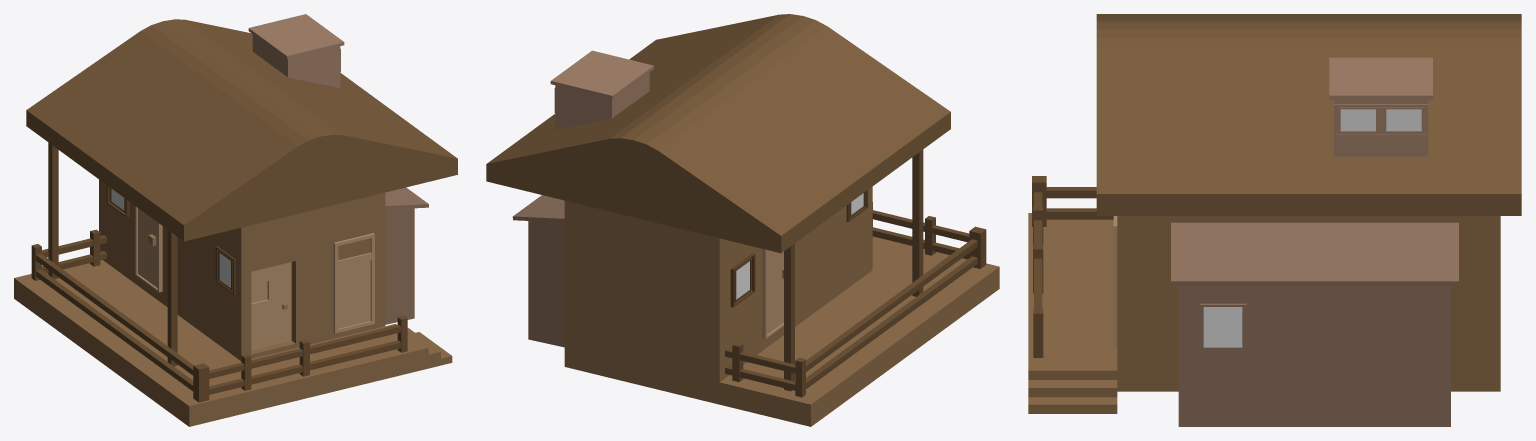
File: House_38.fbx
3 renders of one model, left to right at view 1: azimuth 30°, elevation 25°; view 2: azimuth 150°, elevation 25°; view 3: azimuth 270°, elevation 25°, orthographic. The views are drawn at different scales.
Visible parts, largest first — view 1: House_38_Body; view 2: House_38_Body; view 3: House_38_Body.
Boxes of the visible parts, bbox=[...] form: House_38_Body: bbox=[14, 14, 457, 426]; House_38_Body: bbox=[486, 14, 999, 426]; House_38_Body: bbox=[1028, 14, 1521, 426].
Size of the model in its own units: 763 by 593 by 823.
